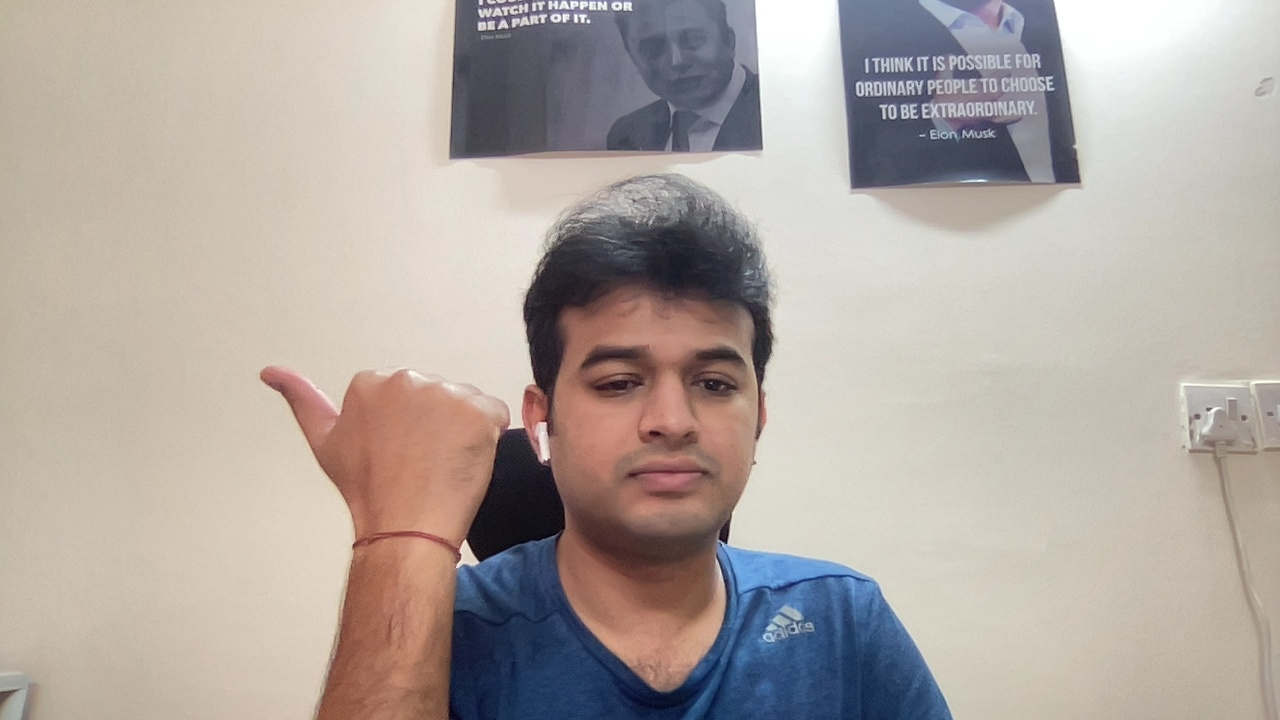right: (252, 357, 515, 541)
